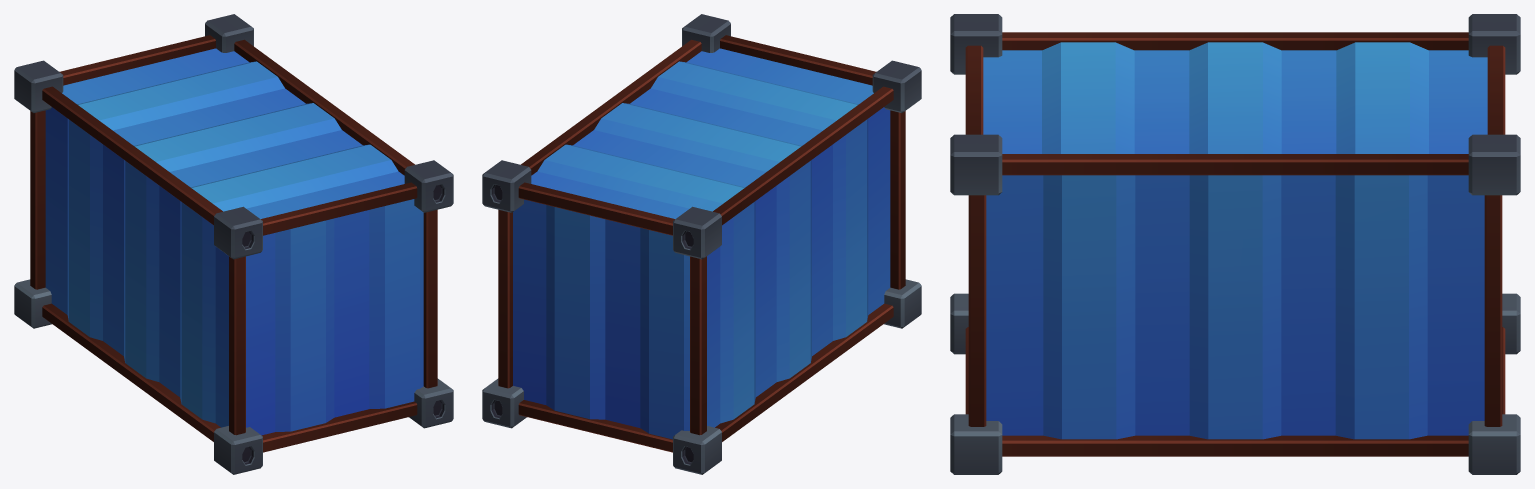
Rendered from sp_build_wall_part1a.fbx.
3 renders of one model, left to right at view 1: azimuth 30°, elevation 25°; view 2: azimuth 150°, elevation 25°; view 3: azimuth 270°, elevation 25°, orthographic. The views are drawn at different scales.
Parts seen in each view (by area): view 1: wall_part1a; view 2: wall_part1a; view 3: wall_part1a.
Part boxes in pixels (x1=…): wall_part1a: x1=14, y1=14, x2=453, y2=474; wall_part1a: x1=482, y1=14, x2=921, y2=474; wall_part1a: x1=950, y1=14, x2=1520, y2=474.
Size of the model in its own units: 292 by 312 by 499.
